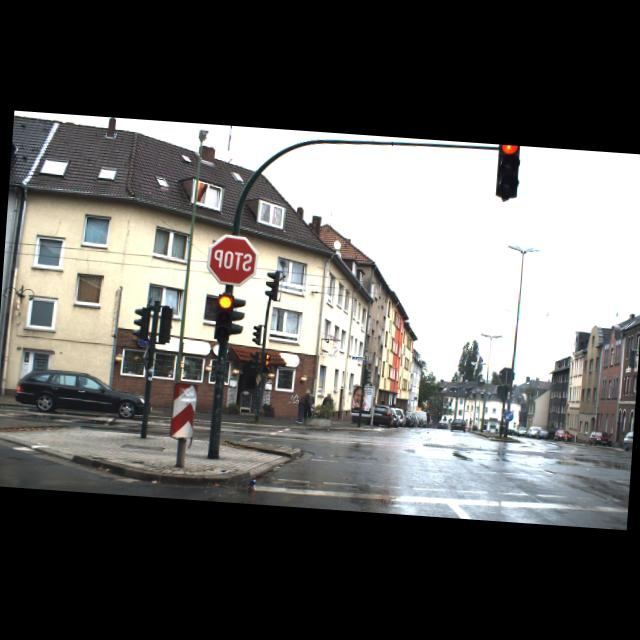mandatory: (504, 409, 514, 422)
other: (205, 233, 259, 286)
